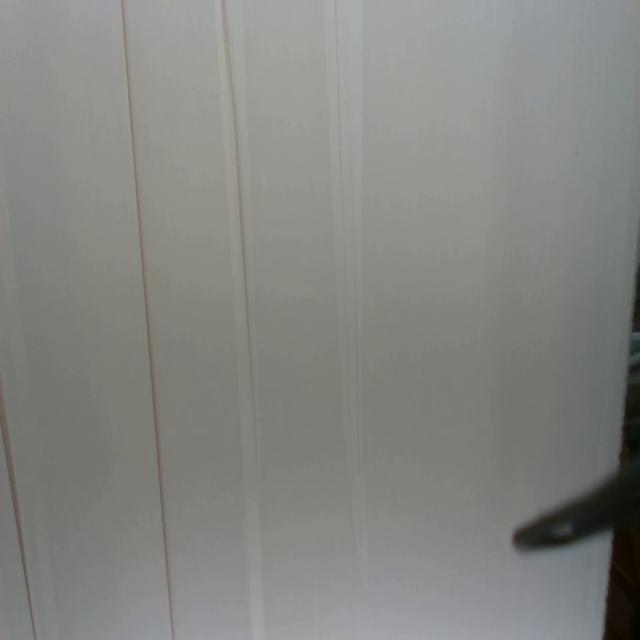crease: (120, 0, 176, 640), (216, 0, 268, 588), (321, 1, 370, 598), (0, 384, 37, 640)
